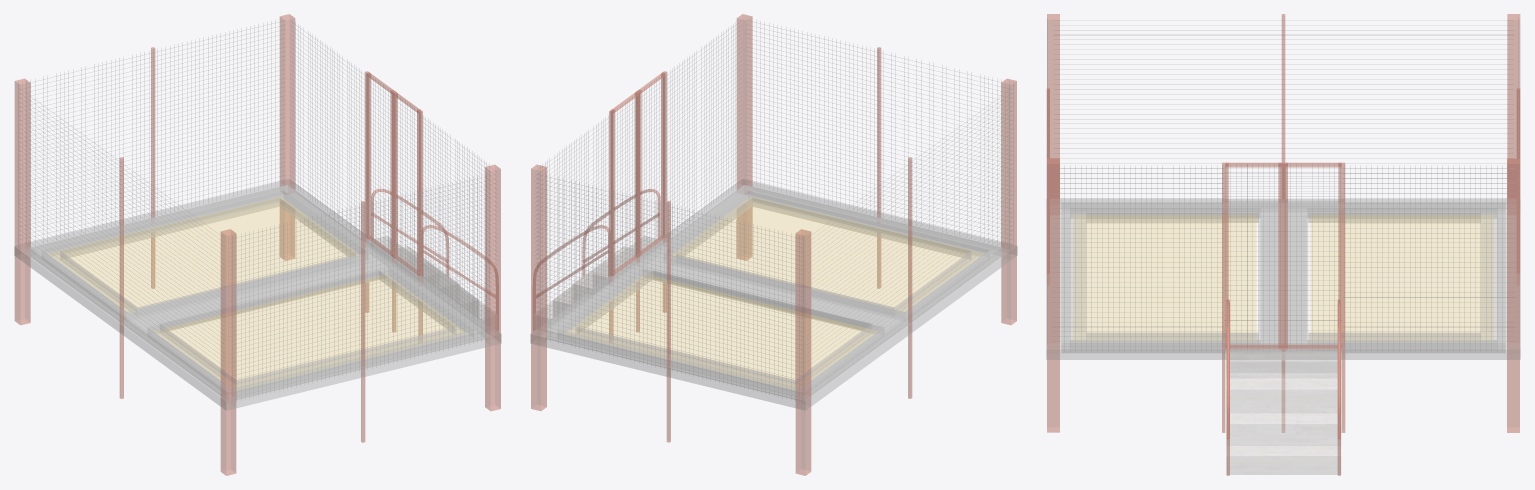
Rendered from trampoline.glb.
3 renders of one model, left to right at view 1: azimuth 30°, elevation 25°; view 2: azimuth 150°, elevation 25°; view 3: azimuth 270°, elevation 25°, orthographic. The views are drawn at different scales.
Parts seen in each view (by area): view 1: Trampoline N190122; view 2: Trampoline N190122; view 3: Trampoline N190122.
Boxes of the visible parts, <box> form: Trampoline N190122: <box>14,14,501,475</box>; Trampoline N190122: <box>530,14,1017,475</box>; Trampoline N190122: <box>1046,14,1520,475</box>.
Size of the model in its own units: 3855 by 2502 by 4000.
Materials: 5 (1 with a texture image).
